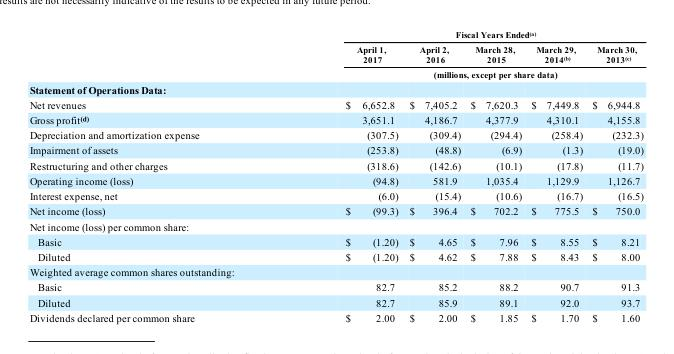table: (28, 29, 643, 323)
table column: (28, 29, 271, 323), (271, 29, 403, 323), (403, 29, 465, 323), (525, 29, 586, 323), (465, 29, 525, 323), (586, 29, 643, 323)
table column header: (28, 29, 643, 81)
table projected row header: (28, 81, 643, 96), (28, 218, 643, 233), (28, 264, 643, 279)
table row: (28, 41, 643, 66), (28, 111, 643, 127), (28, 187, 643, 203), (28, 248, 643, 264), (28, 66, 643, 81), (28, 81, 643, 96), (28, 96, 643, 111), (28, 127, 643, 142), (28, 142, 643, 157), (28, 157, 643, 172), (28, 172, 643, 187), (28, 203, 643, 218), (28, 218, 643, 233), (28, 233, 643, 248), (28, 264, 643, 279), (28, 279, 643, 294), (28, 294, 643, 309), (28, 309, 643, 323), (28, 29, 643, 41)
table spanning cell: (271, 66, 643, 81), (271, 29, 643, 41)
